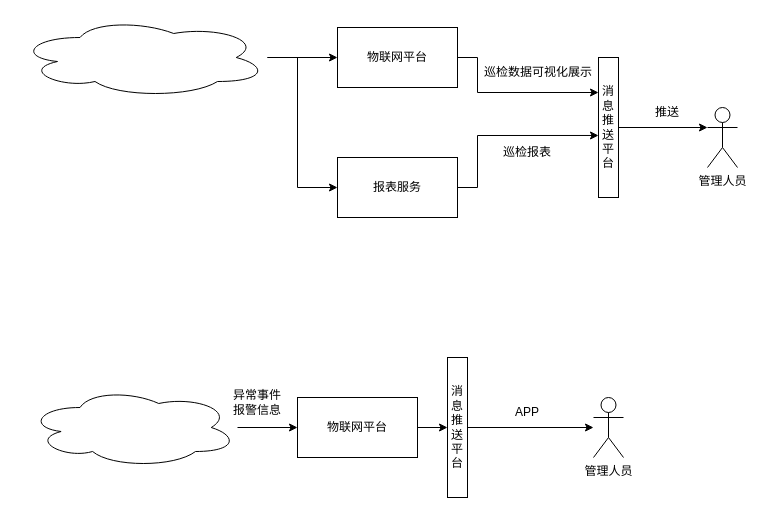
Image size: 764x515. Some labels were removed from this diagram. The shapes that lost their labels are listed below. From the top down, each one's centre as x and y in pixels, then its label:
(142,57): 草料云平台
(132,427): 安防平台
